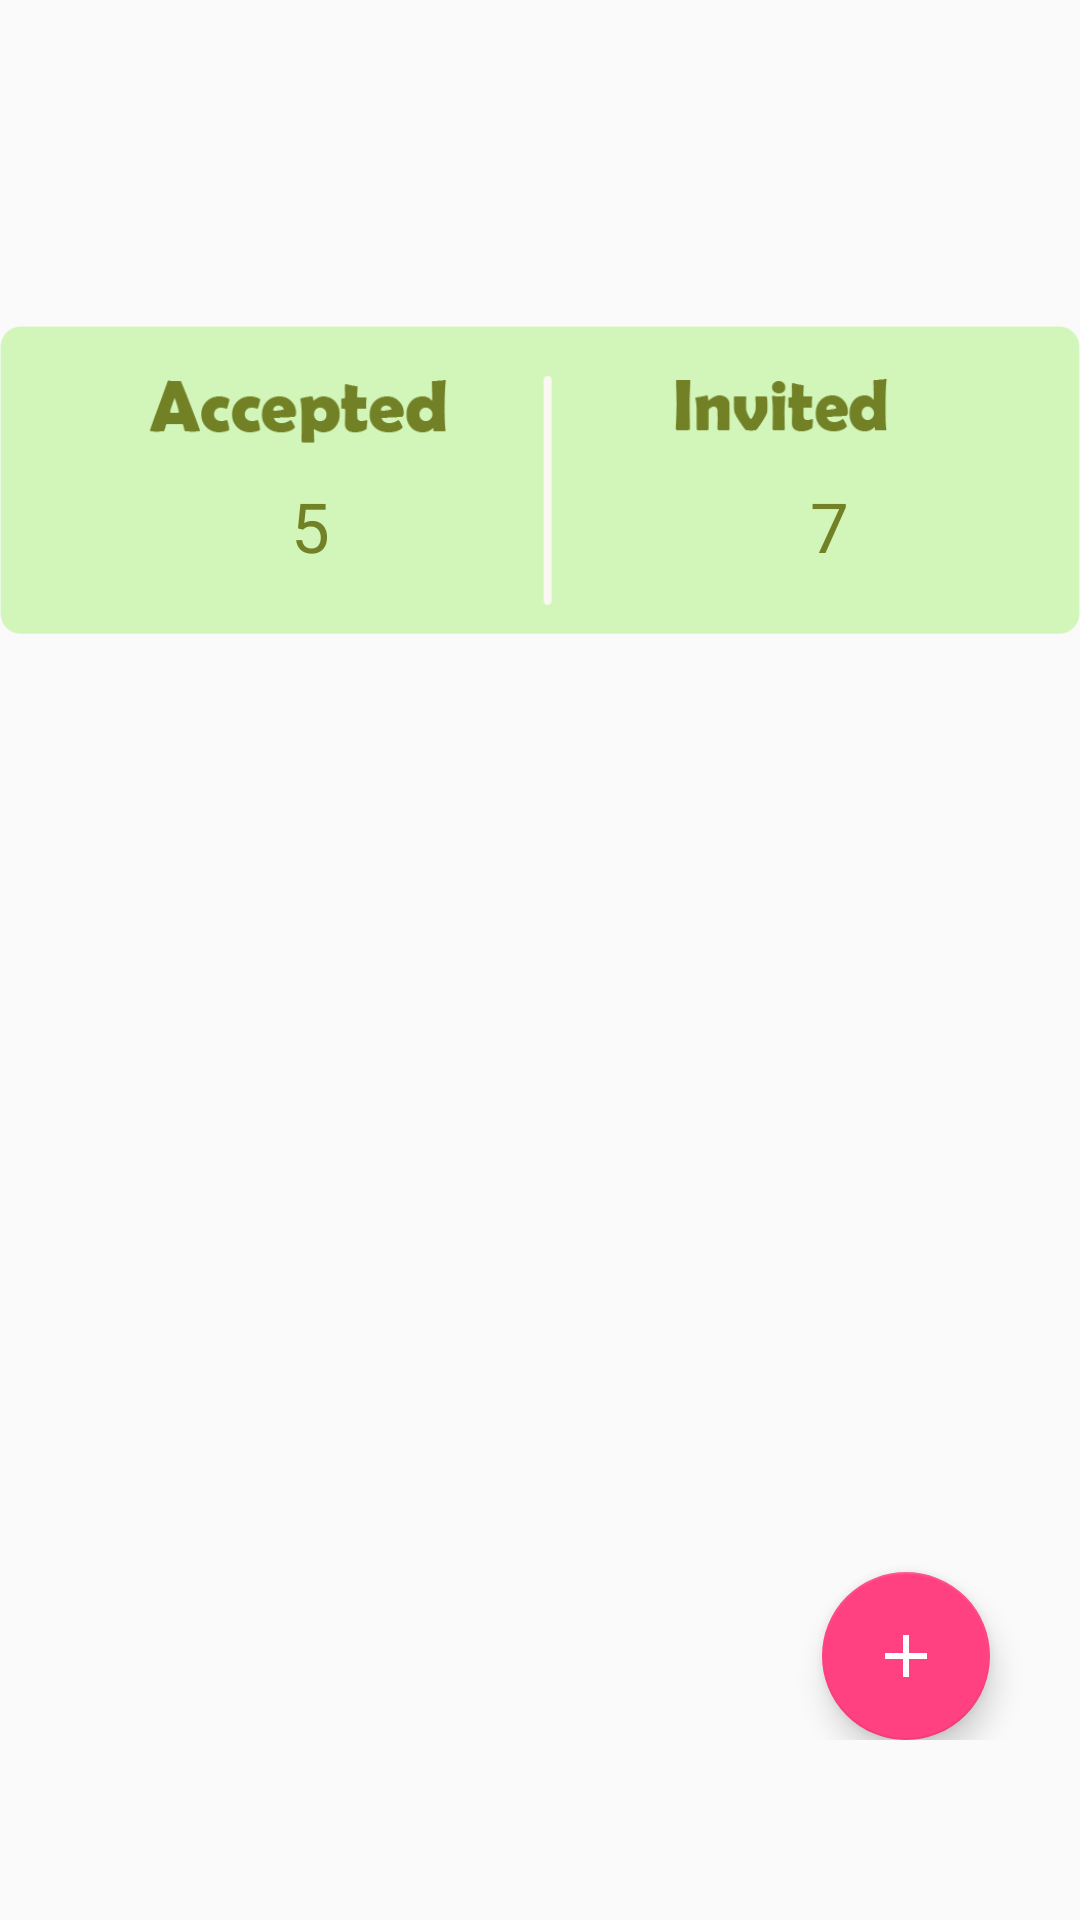

Screen size 1080x1920. Icon name, then its center in pixels as point (x, y):
add: point (906, 1656)
